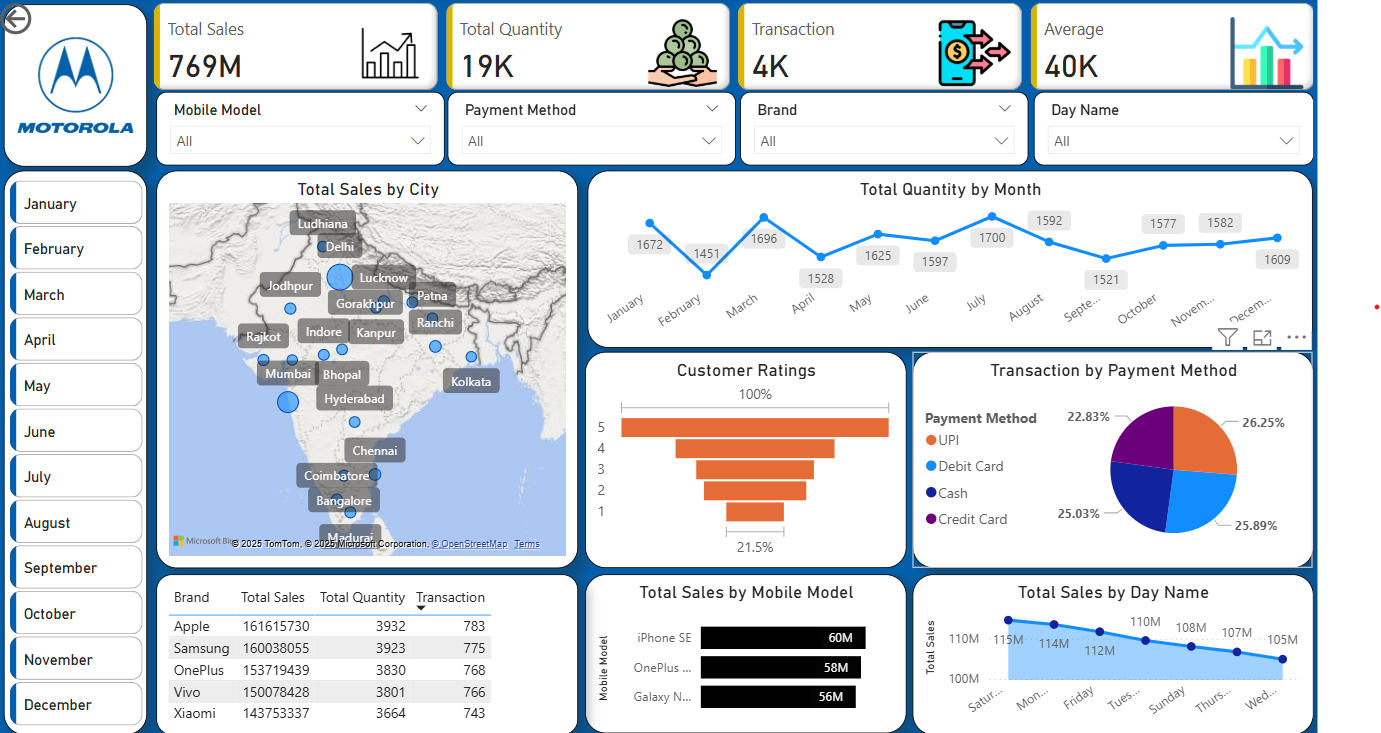

The dashboard page shown, as its layout file describes it:
{"tool":"powerbi","page":{"name":"Page 1","canvas":[1280,720],"ordinal":0},"visuals":[{"type":"shape","box":[8.2,5.5,138.6,156.4],"z":0},{"type":"image","box":[16.5,19.2,122.1,129],"z":1000},{"type":"shape","box":[8.2,166,138.6,544.8],"z":2000},{"type":"advancedSlicerVisual","fields":{"Values":["Sales_Data.Date.Variation.Date Hierarchy.Month"]},"box":[9.6,171.5,138.6,544.8],"z":3000},{"type":"cardVisual","fields":{"Data":["Sales_Data.Total Sales","Sales_Data.Total Quantity","Sales_Data.Transaction","Sales_Data.Average"]},"box":[148.2,0,1132.1,94.7],"z":4000},{"type":"map","fields":{"Category":["Sales_Data.City"],"Size":["Sales_Data.Total Sales"]},"box":[155.1,166,407.5,384.2],"z":5000},{"type":"lineChart","fields":{"Y":["Sales_Data.Total Quantity"],"Category":["Sales_Data.Date.Variation.Date Hierarchy.Month","Sales_Data.Date.Variation.Date Hierarchy.Day"]},"box":[572.2,166,699.8,171.5],"z":6000},{"type":"clusteredBarChart","fields":{"Category":["Sales_Data.Mobile Model"],"Y":["Sales_Data.Total Sales"]},"box":[569.5,555.7,310.1,153.7],"z":7000},{"type":"pieChart","fields":{"Category":["Sales_Data.Payment Method"],"Y":["Sales_Data.Transaction"]},"box":[885.1,341.7,387,208.6],"z":8000},{"type":"funnel","title":"Customer Ratings","fields":{"Y":["CountNonNull(Sales_Data.Customer Ratings)"],"Category":["Sales_Data.Customer Ratings"]},"box":[569.5,341.7,310.1,208.6],"z":9000},{"type":"areaChart","fields":{"Category":["Sales_Data.Day Name"],"Y":["Sales_Data.Total Sales"]},"box":[885.1,555.7,387,155.1],"z":10000},{"type":"tableEx","fields":{"Values":["Sales_Data.Brand","Sales_Data.Total Sales","Sales_Data.Total Quantity","Sales_Data.Transaction"]},"box":[155.1,555.7,407.5,155.1],"z":11000},{"type":"actionButton","box":[0,0,100,40],"z":12000},{"type":"slicer","fields":{"Values":["Sales_Data.Mobile Model"]},"box":[155.1,90.6,278.6,71.4],"z":13000},{"type":"slicer","fields":{"Values":["Sales_Data.Payment Method"]},"box":[436.4,90.6,278.6,71.4],"z":14000},{"type":"slicer","fields":{"Values":["Sales_Data.Brand"]},"box":[719,90.6,278.6,71.4],"z":15000},{"type":"slicer","fields":{"Values":["Sales_Data.Day Name"]},"box":[1002.6,90.5,270.2,71.2],"z":16000}]}

Visuals, with their boxes in screenshot pixels (x1, y1, x2, y2):
shape: 0:0:142:161
image: 6:13:134:147
shape: 0:166:142:732
advancedSlicerVisual - Sales_Data.Date.Variation.Date Hierarchy.Month: 0:171:144:732
cardVisual - Sales_Data.Total Sales x Sales_Data.Total Quantity: 144:0:1323:91
map - Sales_Data.City x Sales_Data.Total Sales: 151:166:575:566
lineChart - Sales_Data.Total Quantity x Sales_Data.Date.Variation.Date Hierarchy.Month: 585:166:1314:344
clusteredBarChart - Sales_Data.Mobile Model x Sales_Data.Total Sales: 583:572:906:732
pieChart - Sales_Data.Payment Method x Sales_Data.Transaction: 911:349:1314:566
"Customer Ratings" funnel: 583:349:906:566
areaChart - Sales_Data.Day Name x Sales_Data.Total Sales: 911:572:1314:732
tableEx - Sales_Data.Brand x Sales_Data.Total Sales: 151:572:575:732
actionButton: 0:0:93:34
slicer - Sales_Data.Mobile Model: 151:87:441:162
slicer - Sales_Data.Payment Method: 444:87:734:162
slicer - Sales_Data.Brand: 738:87:1029:162
slicer - Sales_Data.Day Name: 1034:87:1315:161
